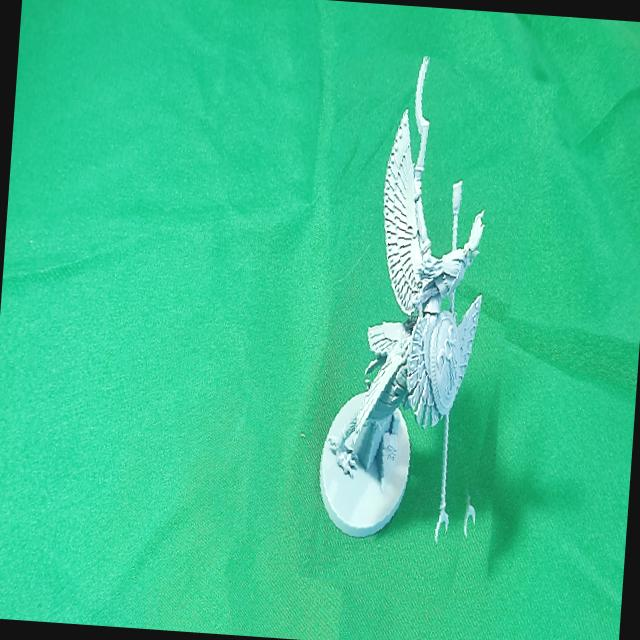isis: (284, 47, 542, 606)
